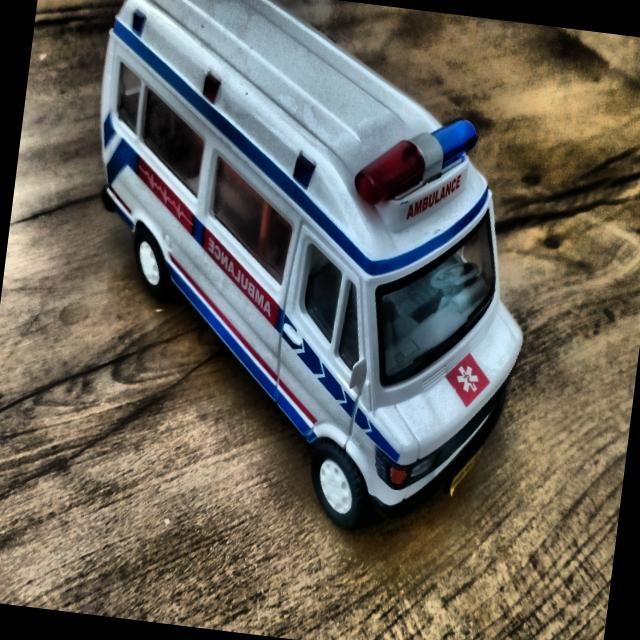Ambulance: (50, 0, 569, 553)
